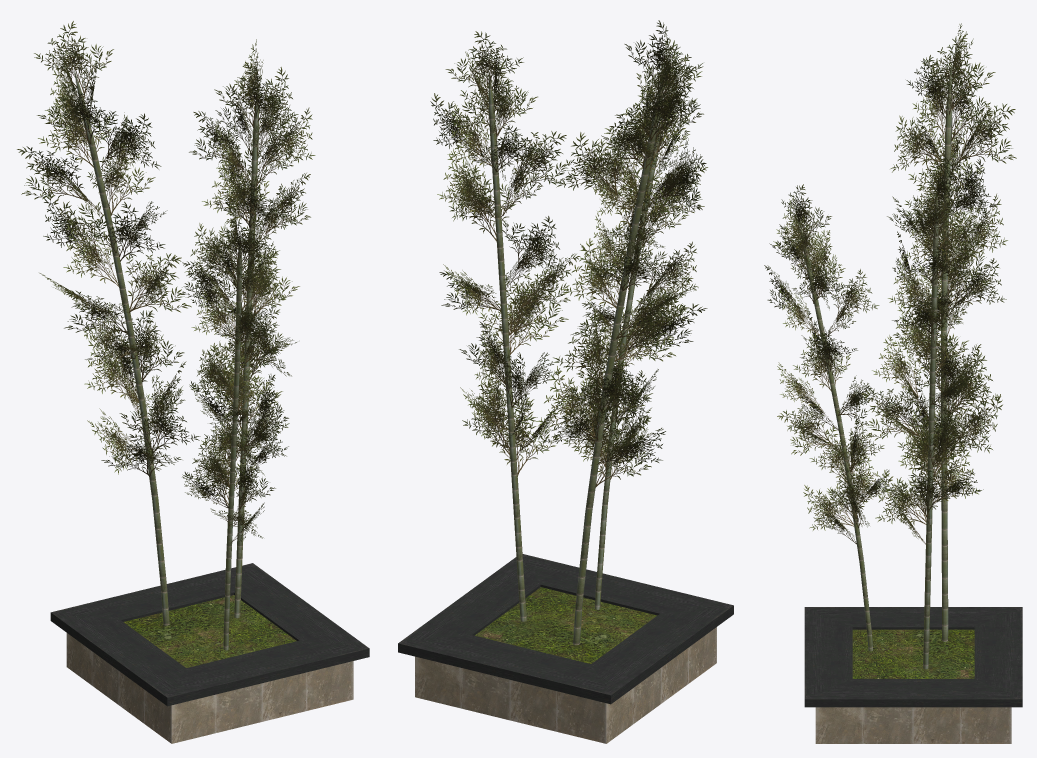
File: fun_b0_m0566.fbx
3 renders of one model, left to right at view 1: azimuth 30°, elevation 25°; view 2: azimuth 150°, elevation 25°; view 3: azimuth 270°, elevation 25°, orthographic. The views are drawn at different scales.
Parts seen in each view (by area): view 1: fun_b0_m0566 Part 1.0, fun_b0_m0566 Part 0.0; view 2: fun_b0_m0566 Part 1.0, fun_b0_m0566 Part 0.0; view 3: fun_b0_m0566 Part 1.0, fun_b0_m0566 Part 0.0.
Part boxes in pixels (box(x1,y1,x2,y2)): fun_b0_m0566 Part 1.0: box(17, 21, 315, 542); fun_b0_m0566 Part 0.0: box(50, 72, 369, 743); fun_b0_m0566 Part 1.0: box(430, 20, 707, 487); fun_b0_m0566 Part 0.0: box(398, 72, 733, 743); fun_b0_m0566 Part 1.0: box(764, 23, 1016, 544); fun_b0_m0566 Part 0.0: box(799, 66, 1022, 743).
Bounding box in the file's own units: 2.82 × 6.43 × 2.39.
2 materials, 2 textured.
